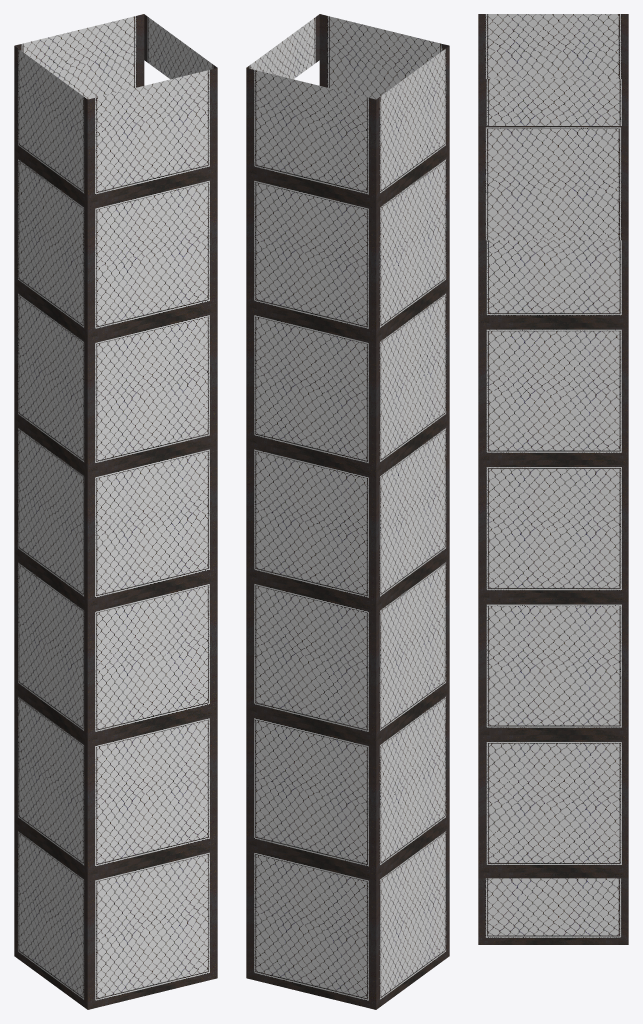
The model's file is Room4.FBX.
3 renders of one model, left to right at view 1: azimuth 30°, elevation 25°; view 2: azimuth 150°, elevation 25°; view 3: azimuth 270°, elevation 25°, orthographic. The views are drawn at different scales.
Parts seen in each view (by area): view 1: Lift(Collider); view 2: Lift(Collider); view 3: Lift(Collider).
Part boxes in pixels (x1,y1,x2,y2): Lift(Collider): (14, 14, 217, 1009); Lift(Collider): (246, 14, 449, 1009); Lift(Collider): (478, 14, 628, 944).
Bounding box in the file's own units: 10.93 × 73.16 × 10.72.
